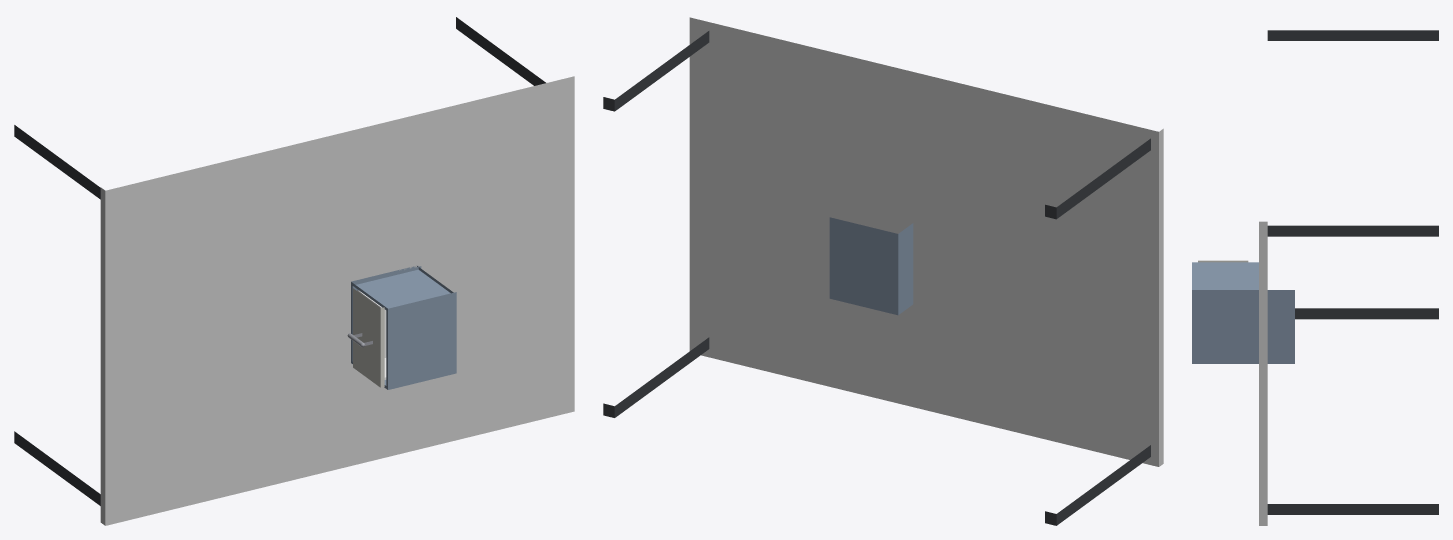
Rendered from t2_cf31f5bfed.glb.
3 views of the same model, side by side, from view 1: azimuth 30°, elevation 25°; view 2: azimuth 150°, elevation 25°; view 3: azimuth 270°, elevation 25° (orthographic). The views are drawn at different scales.
Visible parts, largest first — view 1: s0, s1, s2; view 2: s0, s1; view 3: s0, s1.
Boxes of the visible parts, x1,y1,x2,y2 form: s0: (14, 17, 574, 525); s1: (351, 265, 456, 389); s2: (347, 288, 386, 387); s0: (603, 17, 1163, 525); s1: (829, 217, 913, 315); s0: (1259, 30, 1438, 525); s1: (1192, 262, 1294, 363).
Size of the model in its own units: 2.05 by 1.4 by 1.03.
